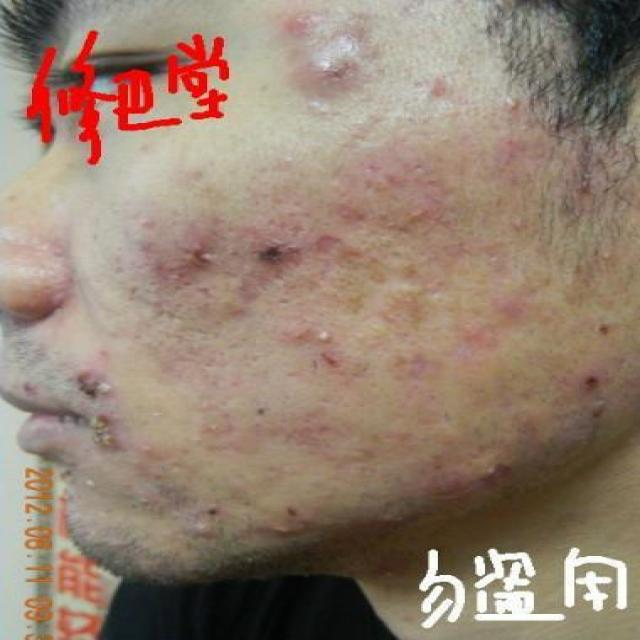papule: (248, 234, 312, 286), (433, 462, 485, 514), (79, 410, 123, 458), (485, 293, 544, 328), (335, 3, 381, 42), (187, 406, 234, 444), (71, 352, 113, 394), (163, 511, 210, 541), (421, 73, 465, 103), (284, 7, 332, 34), (254, 512, 298, 541), (483, 90, 524, 121), (399, 195, 440, 226), (322, 195, 369, 222), (349, 153, 394, 181), (495, 132, 532, 164), (278, 317, 320, 344), (308, 319, 345, 349), (365, 508, 406, 534), (574, 360, 608, 390), (224, 276, 263, 302), (184, 241, 212, 276), (140, 254, 173, 282), (241, 208, 279, 232), (180, 225, 222, 246), (394, 346, 421, 378), (449, 328, 486, 349), (131, 227, 160, 251)
